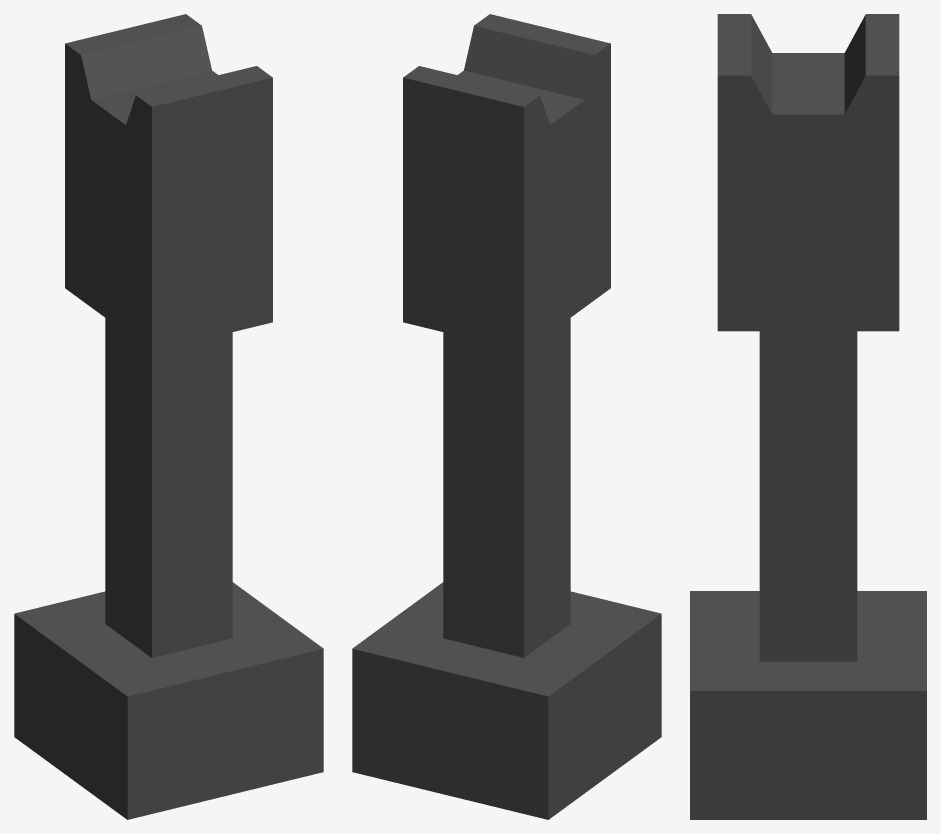
Rendered from SM_Prop_Road_Barrier_Base_01.fbx.
3 views of the same model, side by side, from view 1: azimuth 30°, elevation 25°; view 2: azimuth 150°, elevation 25°; view 3: azimuth 270°, elevation 25° (orthographic). The views are drawn at different scales.
Parts seen in each view (by area): view 1: SM_Prop_Road_Barrier_Base_01; view 2: SM_Prop_Road_Barrier_Base_01; view 3: SM_Prop_Road_Barrier_Base_01.
Part boxes in pixels (x1,y1,x2,y2): SM_Prop_Road_Barrier_Base_01: (14, 14, 323, 819); SM_Prop_Road_Barrier_Base_01: (352, 14, 661, 819); SM_Prop_Road_Barrier_Base_01: (690, 14, 926, 819).
Bounding box in the file's own units: 38.78 × 131 × 38.78.
